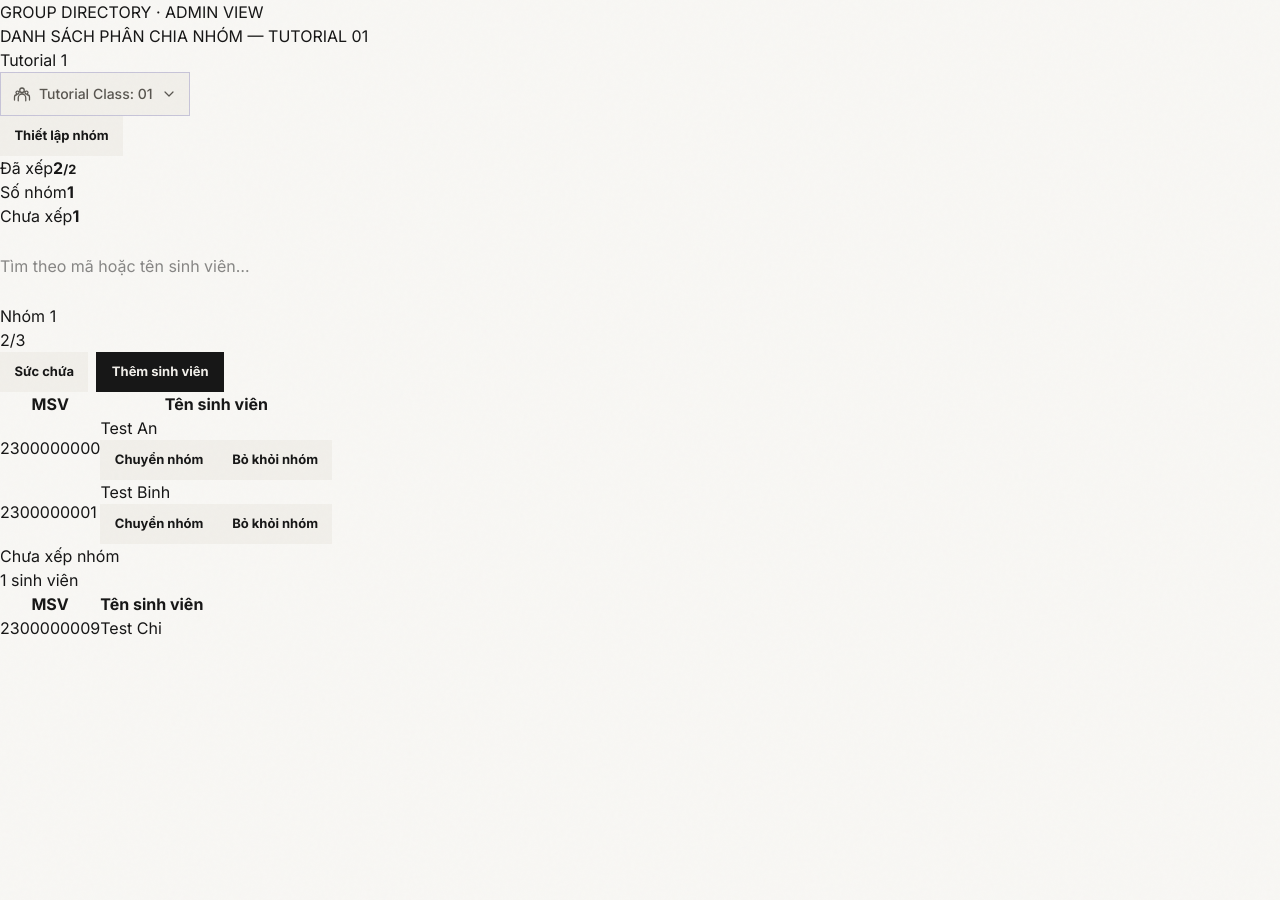
it: Quick-add student picker › shows matching unassigned students as the query is typed and adds one on click
Click the button "Thêm sinh viên" at (160, 372), box [96, 352, 224, 392]
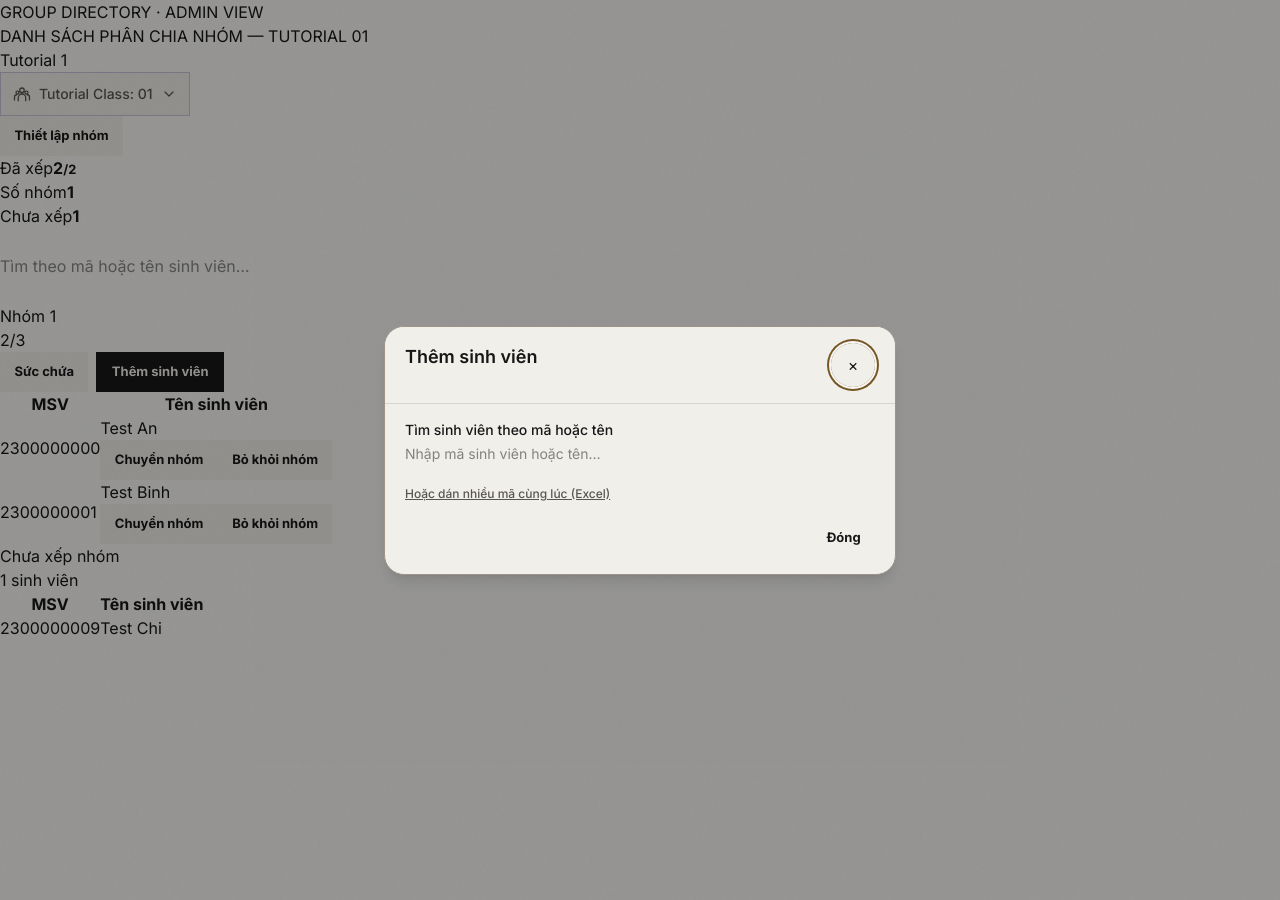
Type "Chi" into the field labelled "Tìm sinh viên theo mã hoặc tên" at (640, 454), box [405, 444, 875, 464]
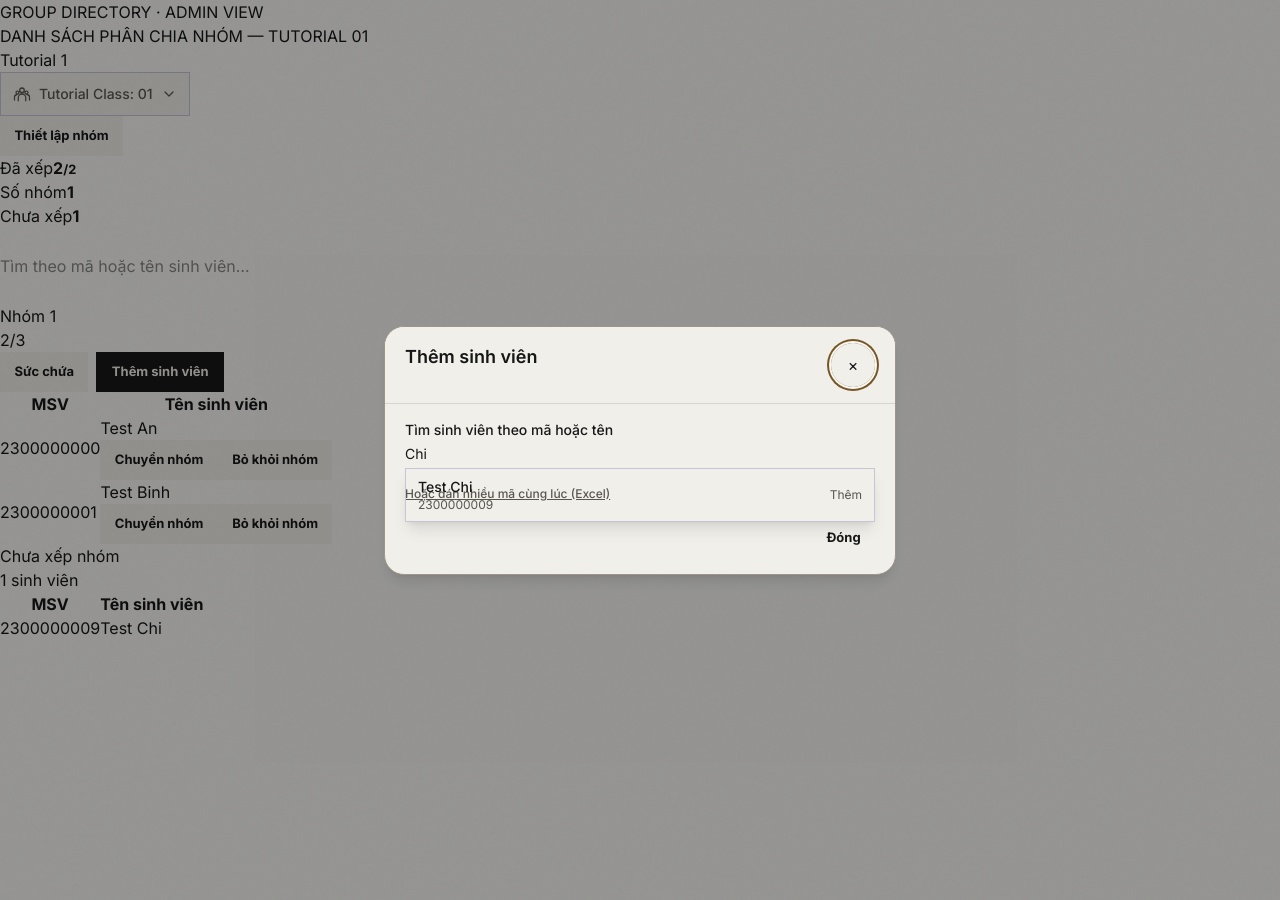
Expected: the button "Test Chi 2300000009 Thêm" is shown
Click the button "Test Chi 2300000009 Thêm" at (445, 486), box [406, 468, 874, 520]
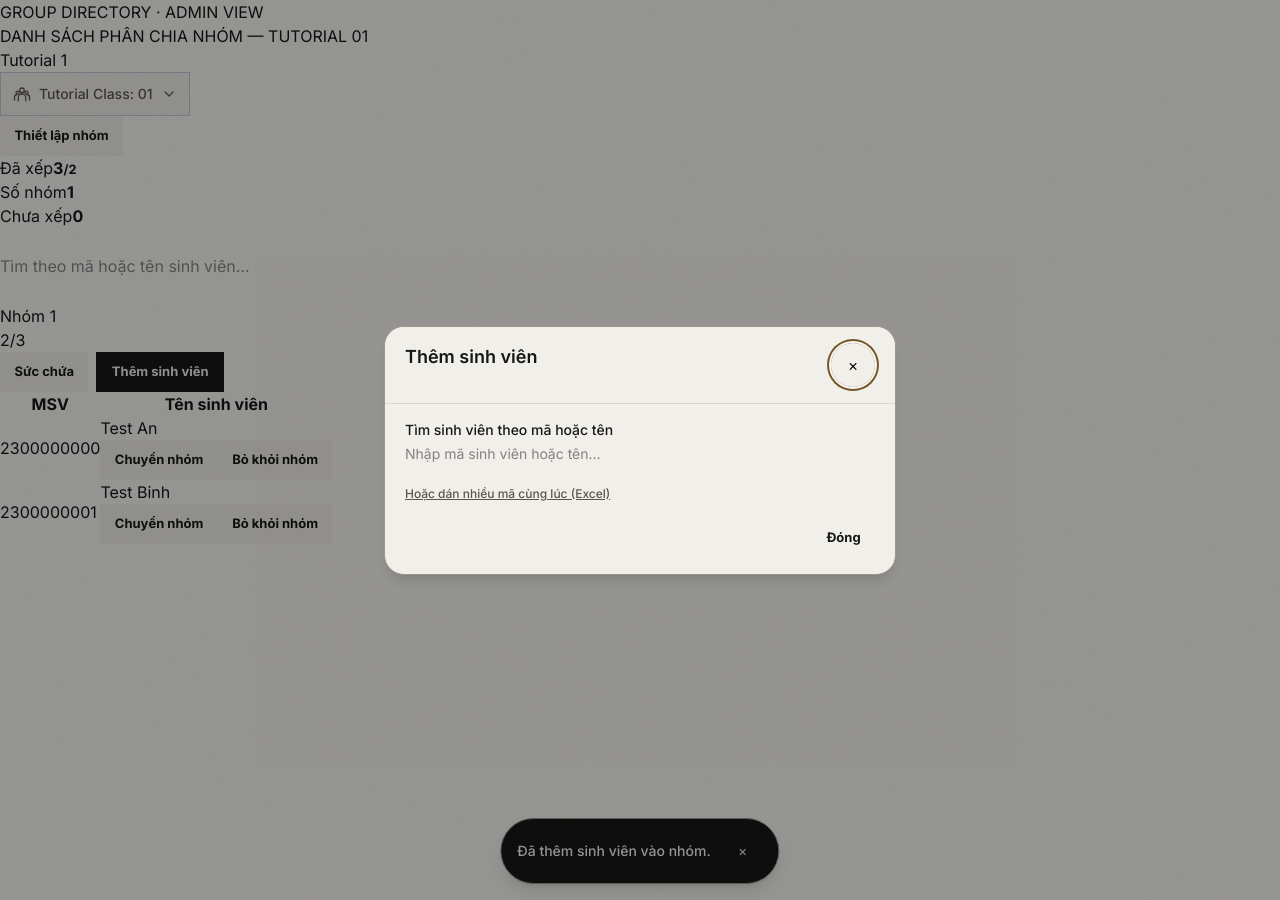
Expected: the text "2300000009" is gone
